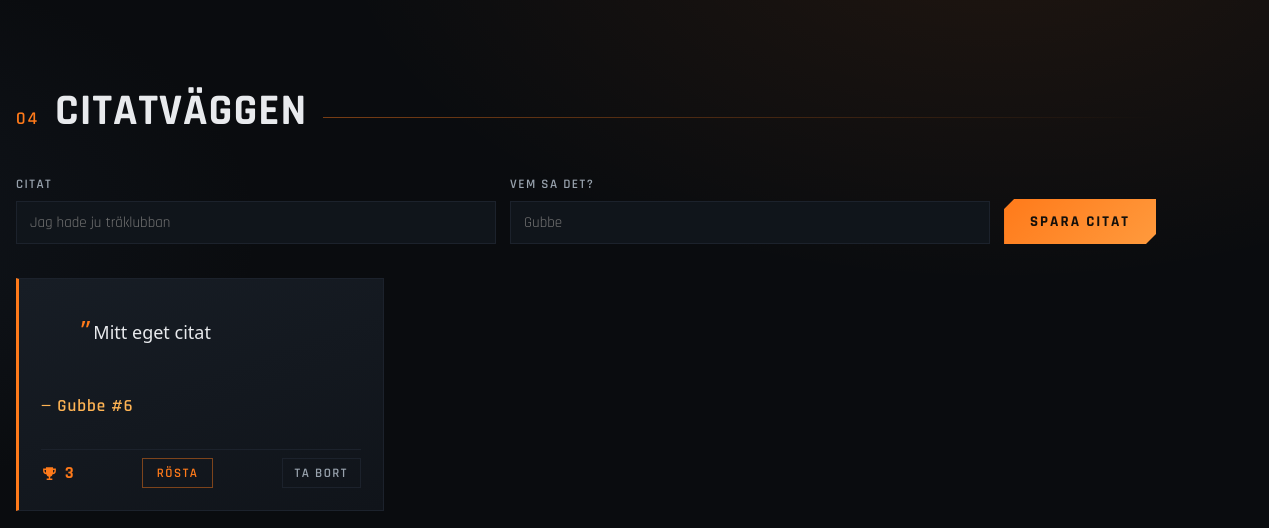
Test: Quotes › removing your own quote › asks once before actually removing it
Click the button "Ta bort" at {"x": 321, "y": 473}, box [282,458,361,488]
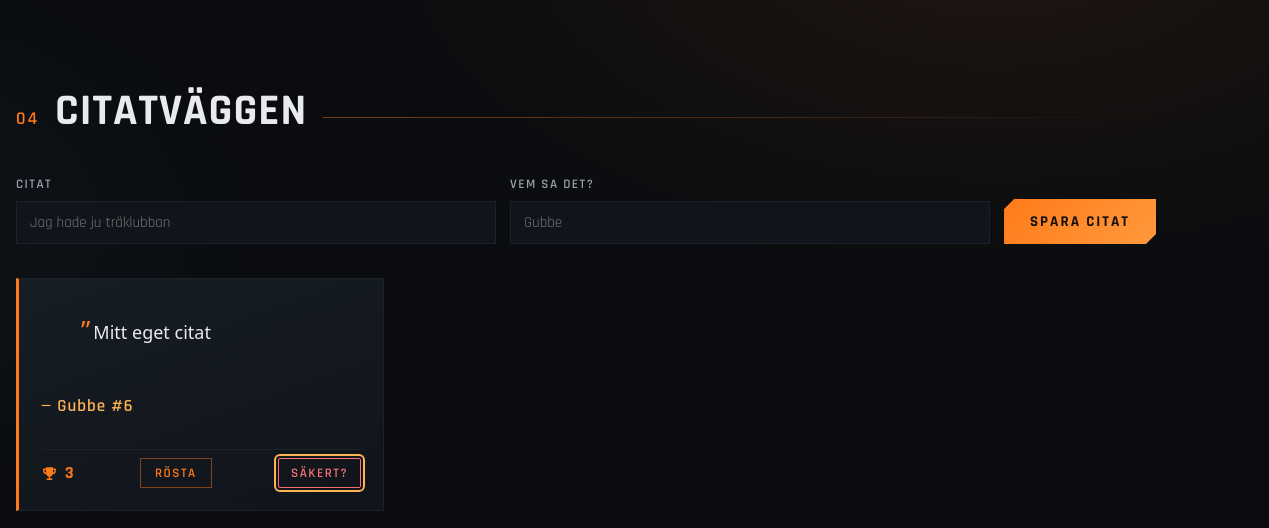
Click the button "Säkert?" at {"x": 320, "y": 473}, box [278,458,361,488]
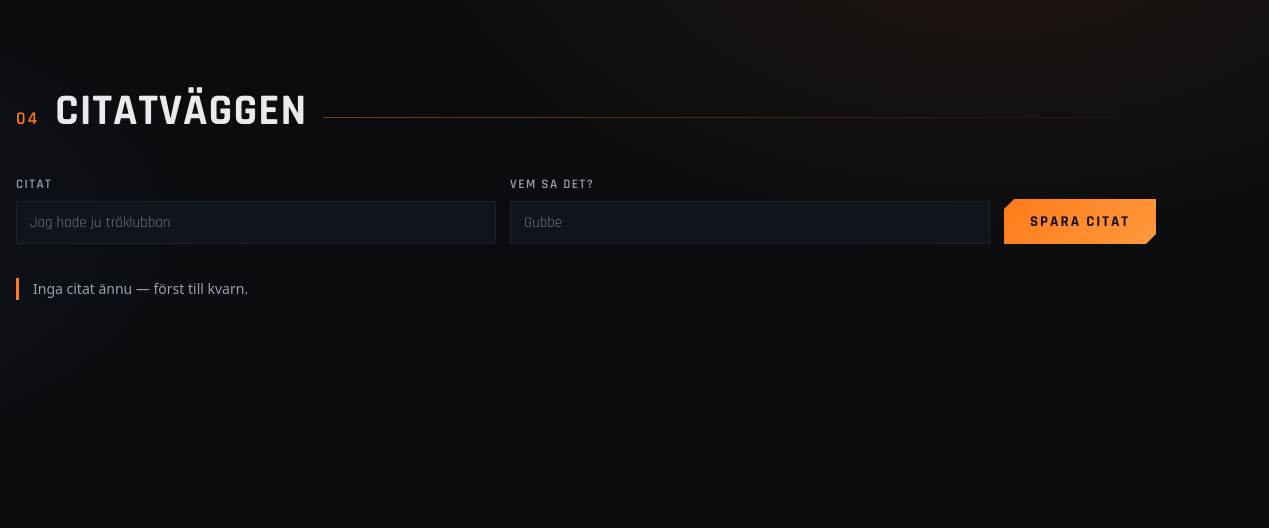
Expected: the text "Mitt eget citat" is gone
